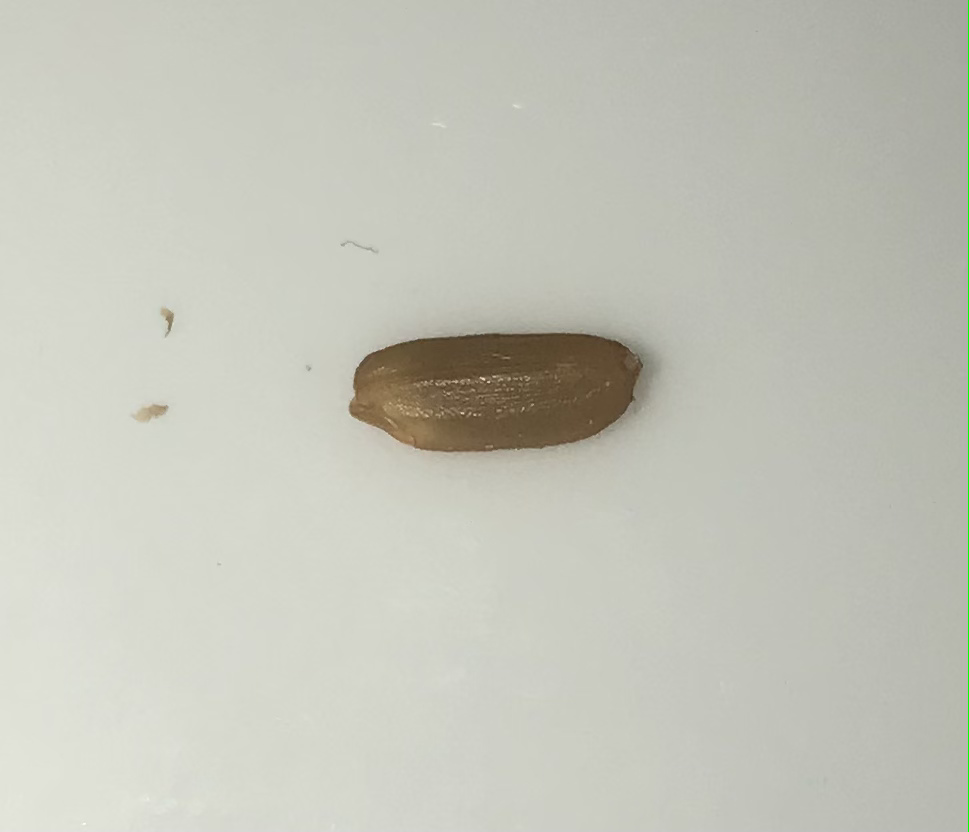Gao Lut Dien Bien: (348, 325, 653, 455)
